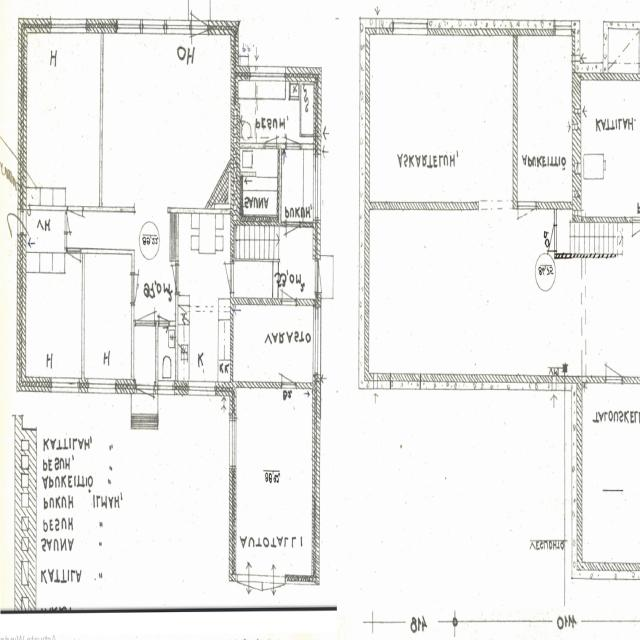door: (262, 575, 286, 629), (238, 575, 262, 629), (136, 380, 154, 428), (518, 201, 536, 242), (192, 17, 208, 62), (313, 261, 337, 291), (136, 286, 154, 326), (606, 344, 622, 384), (214, 264, 233, 292), (192, 0, 208, 33), (132, 274, 150, 303), (161, 265, 178, 293), (282, 272, 296, 305), (286, 221, 300, 251), (282, 356, 295, 388), (541, 225, 557, 250), (69, 207, 82, 237), (287, 120, 299, 149), (264, 120, 276, 149), (68, 249, 80, 277), (632, 216, 640, 257), (159, 302, 169, 326), (65, 213, 77, 233)
